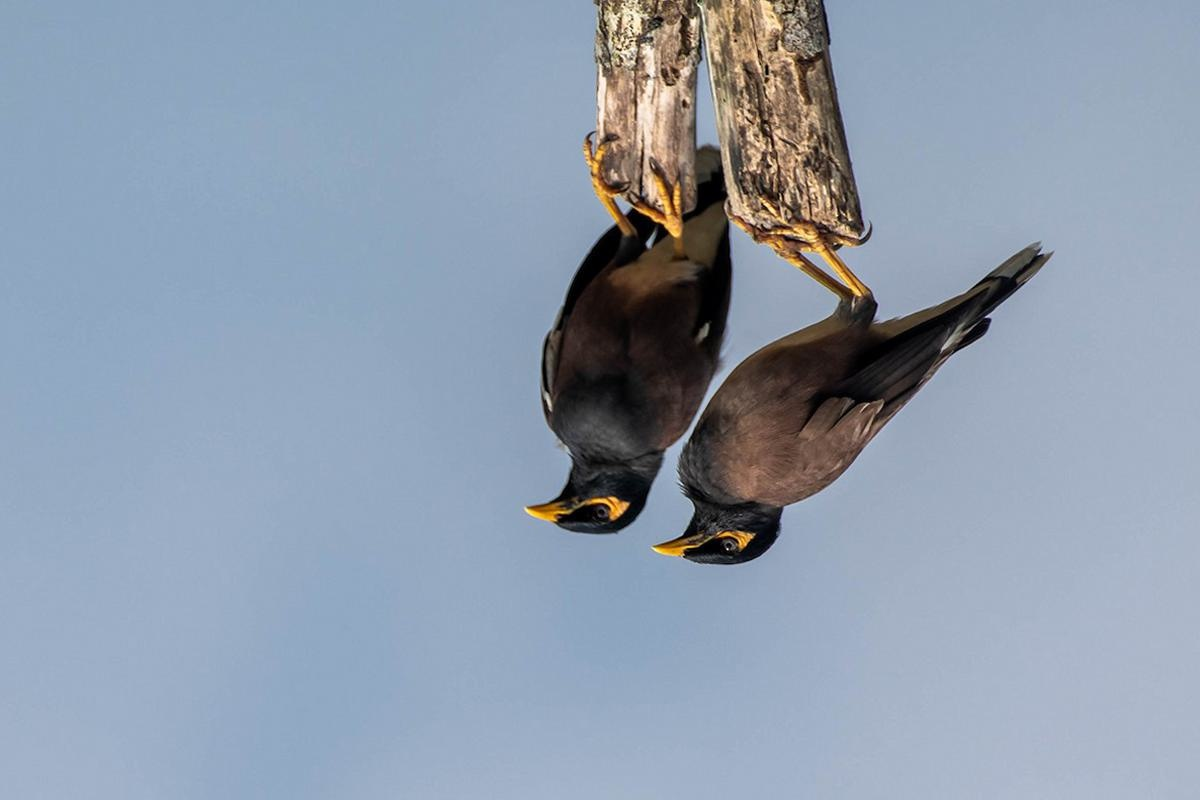myna: (685, 174, 1095, 586), (516, 153, 701, 553)
